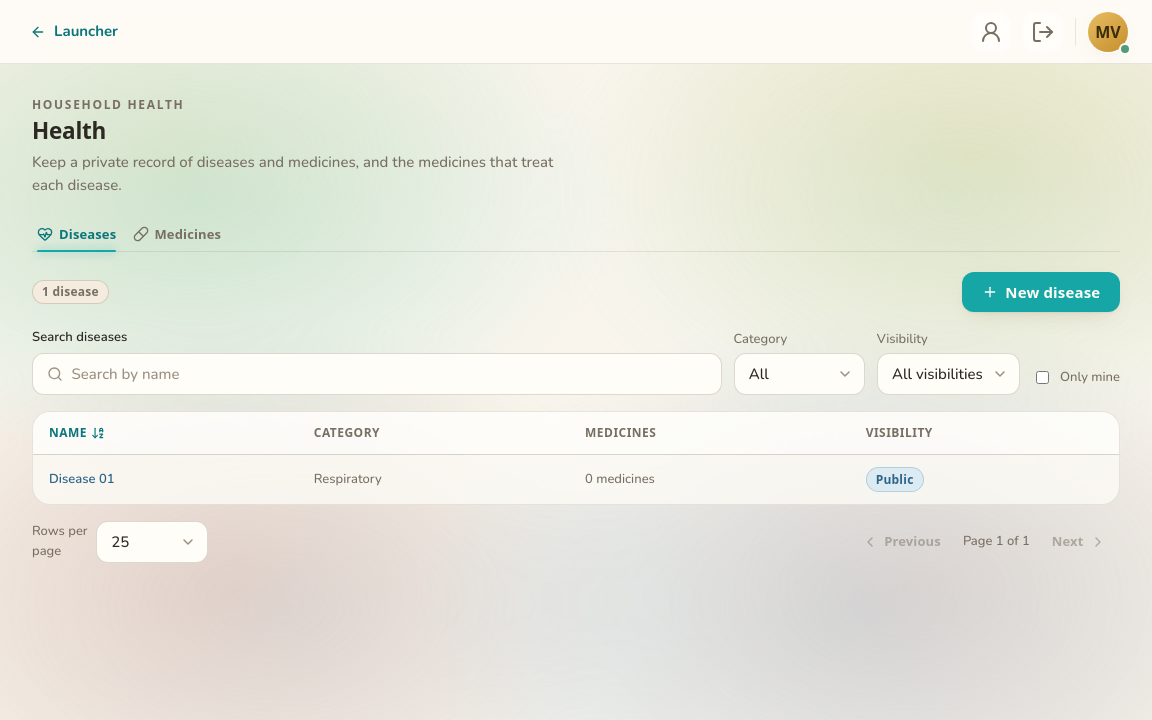
it: Health page — diseases tab › switches to the medicines tab gallery
Expected: the button "Disease 01" is shown, x1=49 y1=470 x2=114 y2=489
Click the tab "Medicines" at (177, 234), box x1=128 y1=216 x2=226 y2=252
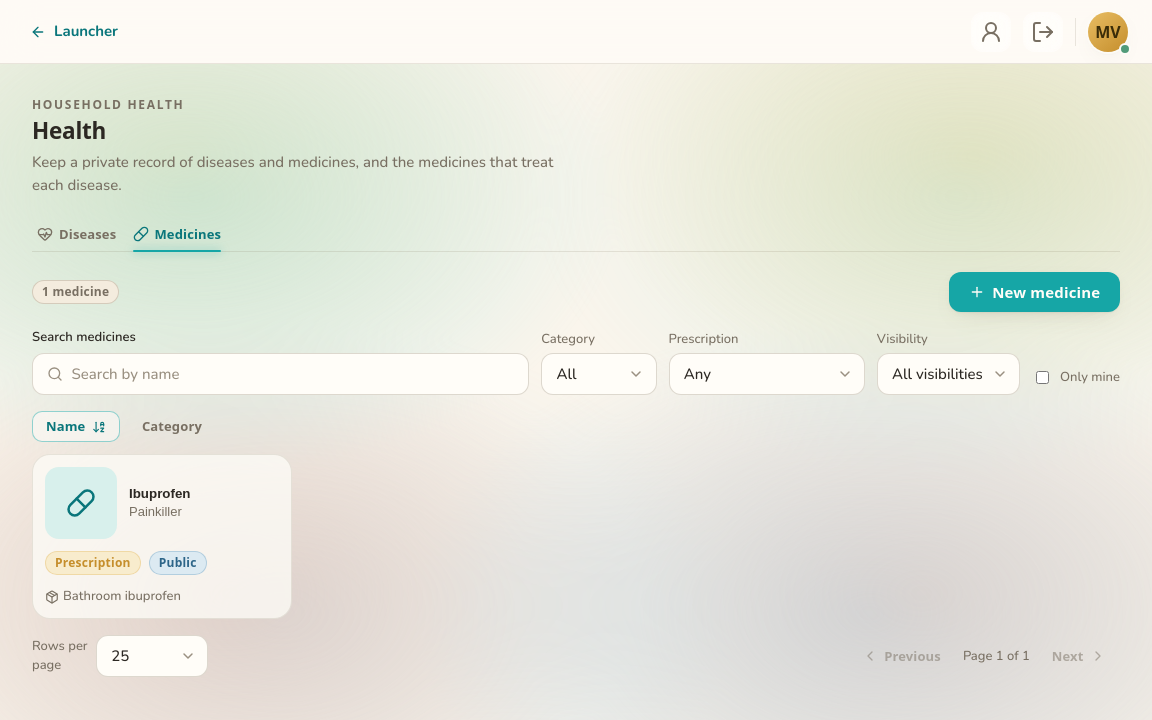
Expected: the text "Ibuprofen" is shown, x1=129 y1=486 x2=190 y2=501
Expected: the text "Bathroom ibuprofen" is shown, x1=63 y1=587 x2=181 y2=606
